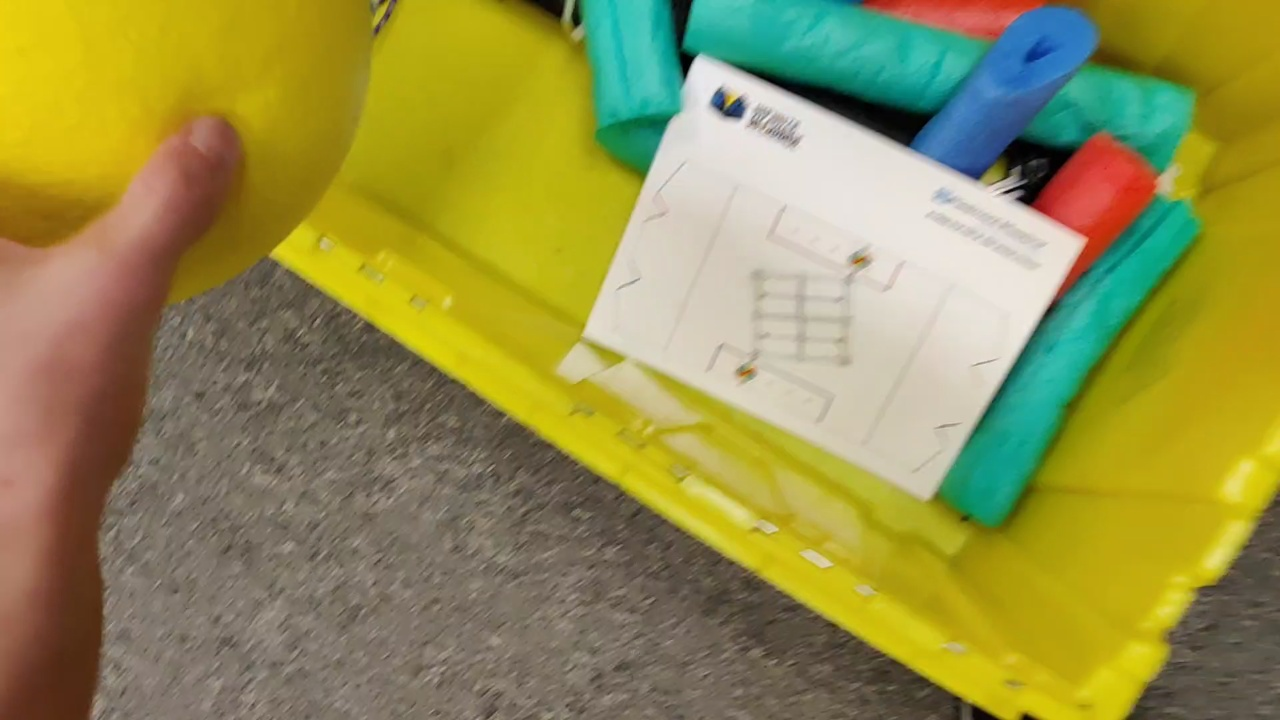Ball: (1, 1, 373, 312)
